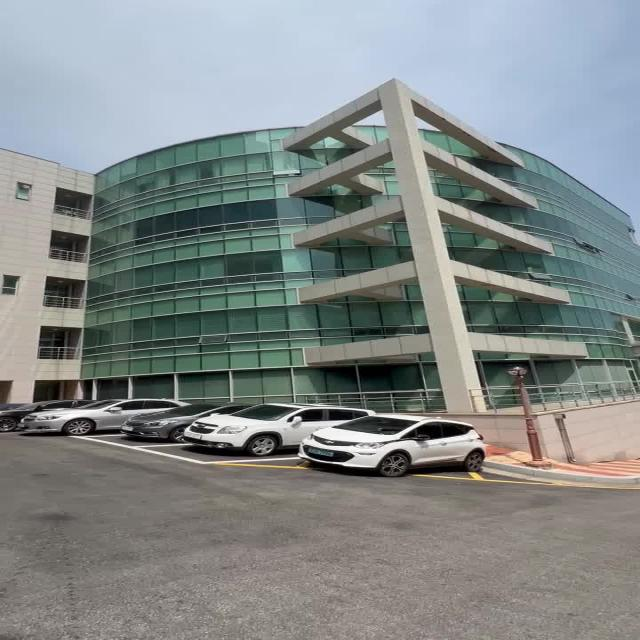building: (2, 88, 640, 400)
